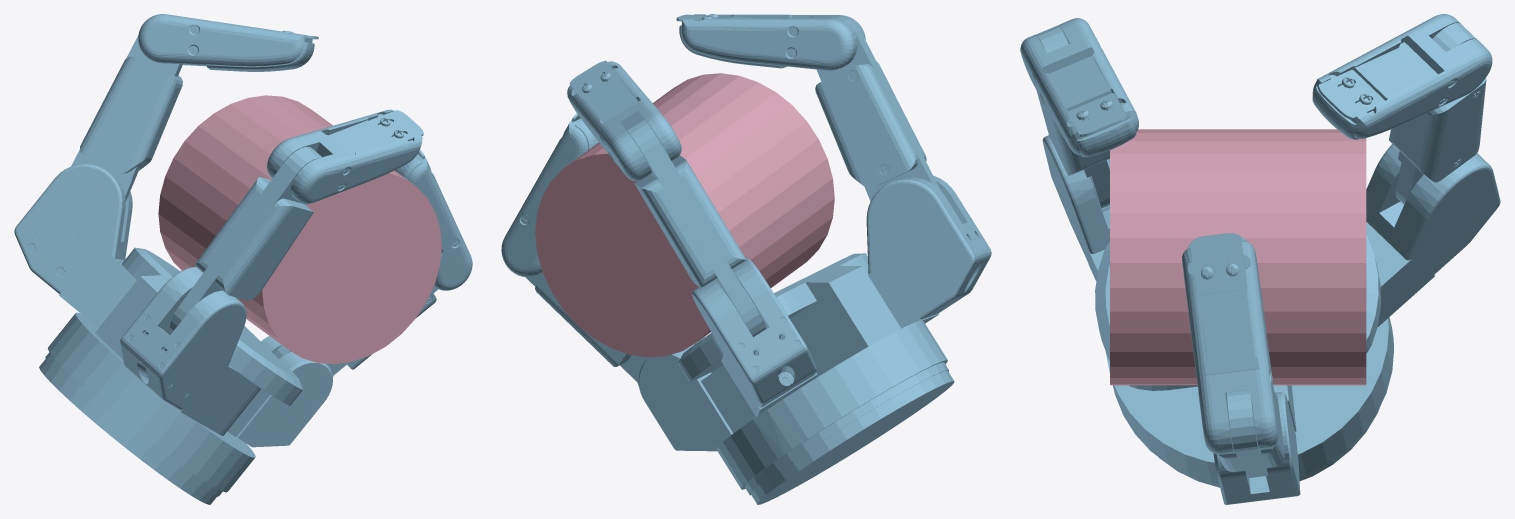
The picture shows the model from 3 angles, left to right: view 1: azimuth 30°, elevation 25°; view 2: azimuth 150°, elevation 25°; view 3: azimuth 270°, elevation 25°; orthographic projection. The views are drawn at different scales.
Visible parts, largest first — view 1: world; view 2: world; view 3: world.
Boxes of the visible parts, left/top/right/bottom form: world: left=14, top=14, right=472, bottom=504; world: left=501, top=14, right=991, bottom=504; world: left=1020, top=14, right=1500, bottom=504.
Bounding box in the file's own units: 0.1788 × 0.1723 × 0.1498.
